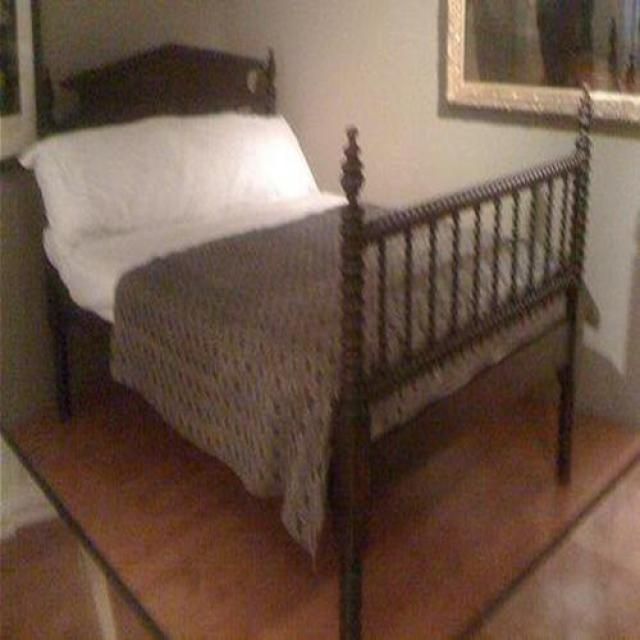bed: (20, 44, 591, 640)
